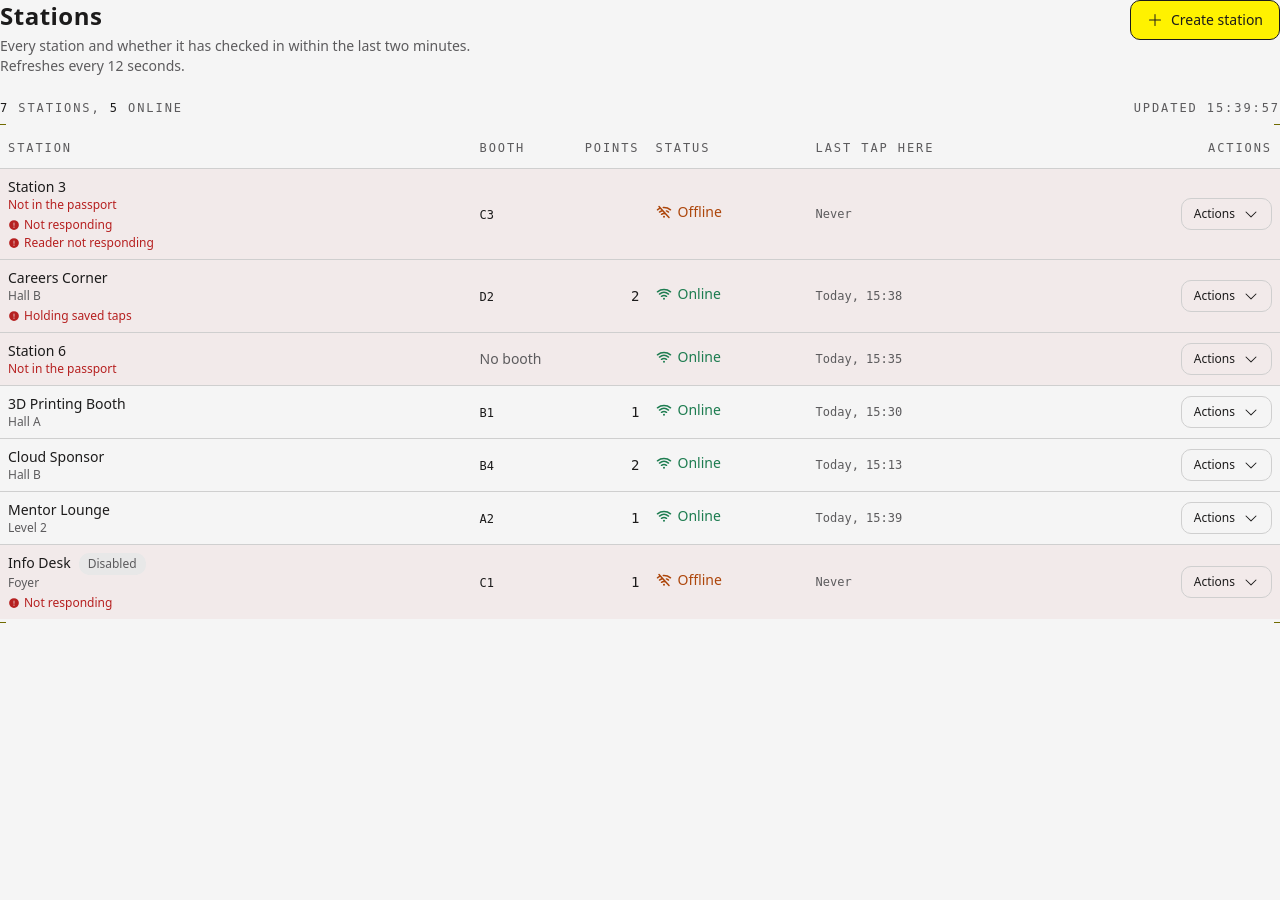
Test: the booth on the station board (agreement 9.12) › clears the booth when the field is left blank
Step 1. Click the button "Actions" in the row of "3D Printing Booth" → (1226, 412), box 1181,396 -> 1272,428
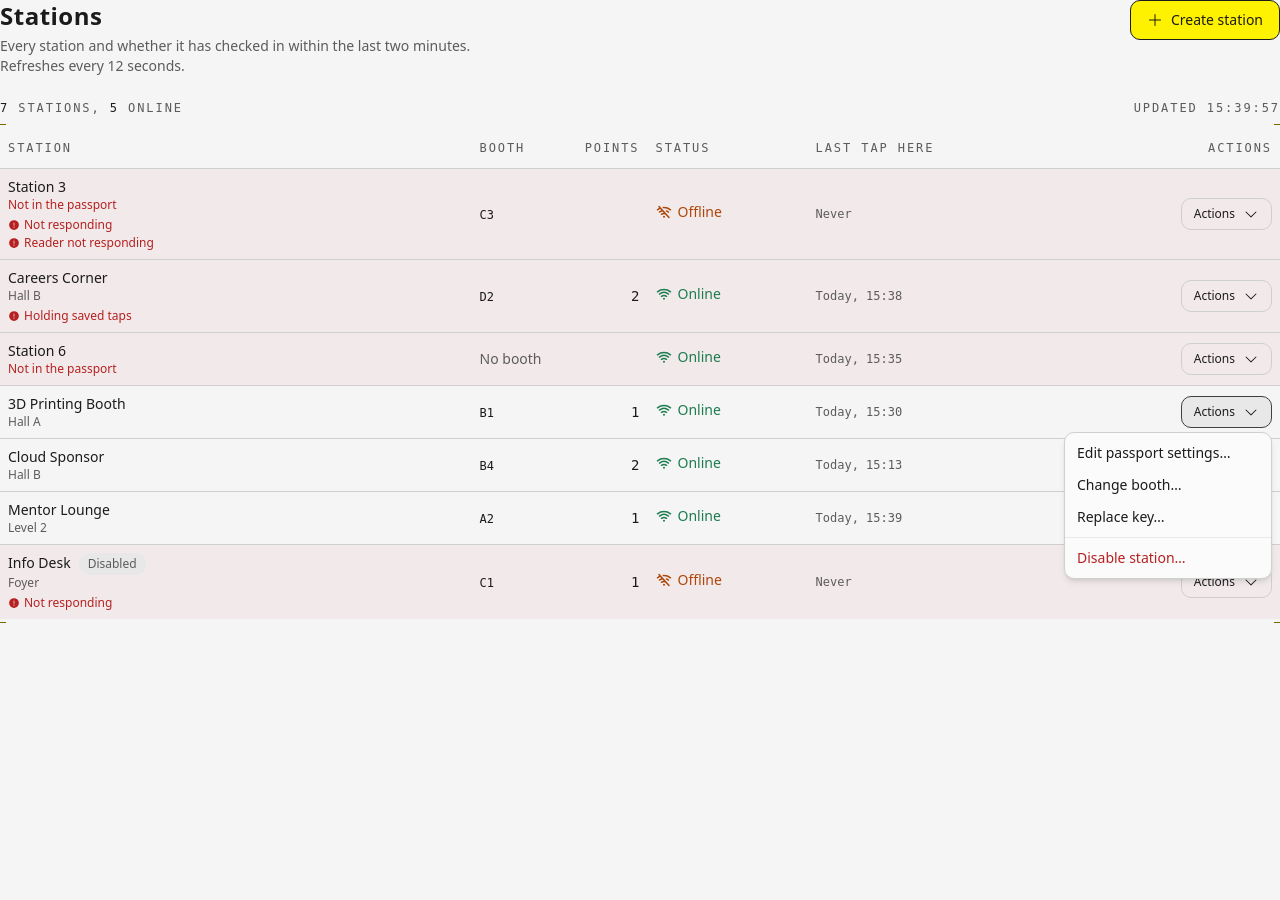
Check: the menu is shown, box 1064,432 -> 1272,579
Step 2. Click the menu item "Change booth…" → (1129, 484), box 1077,475 -> 1182,494
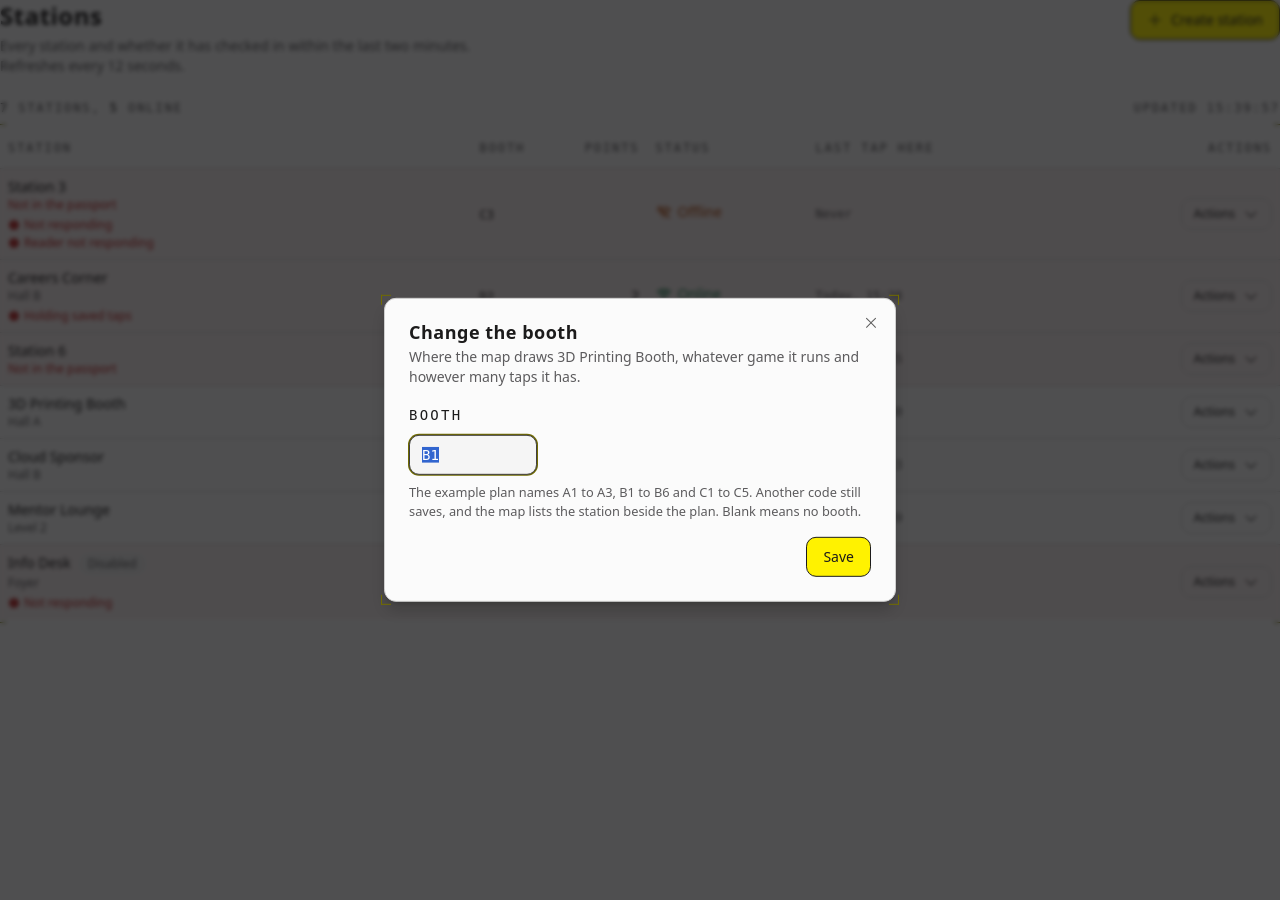
Step 3. Clear the field labelled "Booth" → (473, 455), box 409,435 -> 537,475
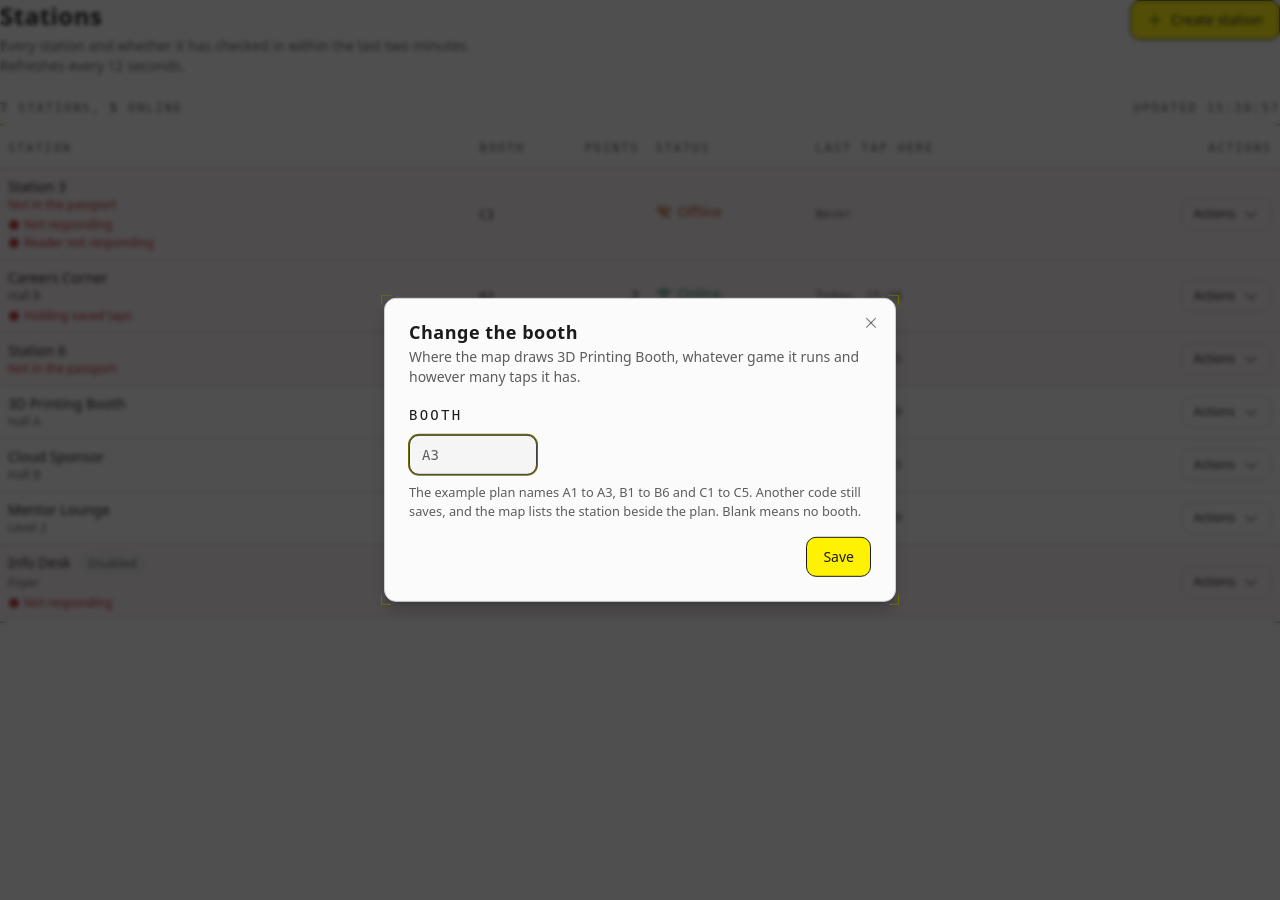
Step 4. Click the button "Save" → (839, 557), box 806,537 -> 871,577
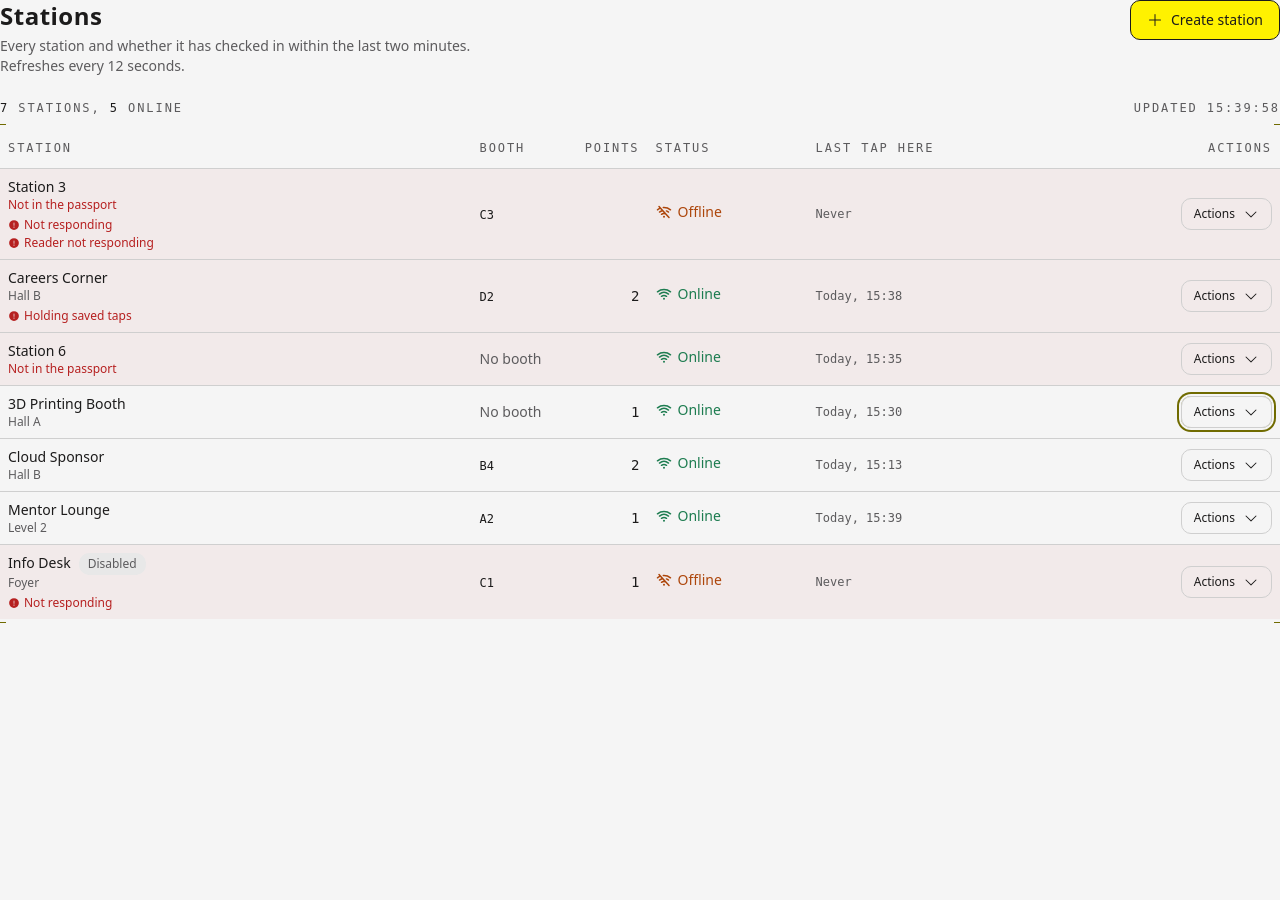
Check: the text "3D Printing Booth" shows "No booth", box 480,402 -> 542,420
